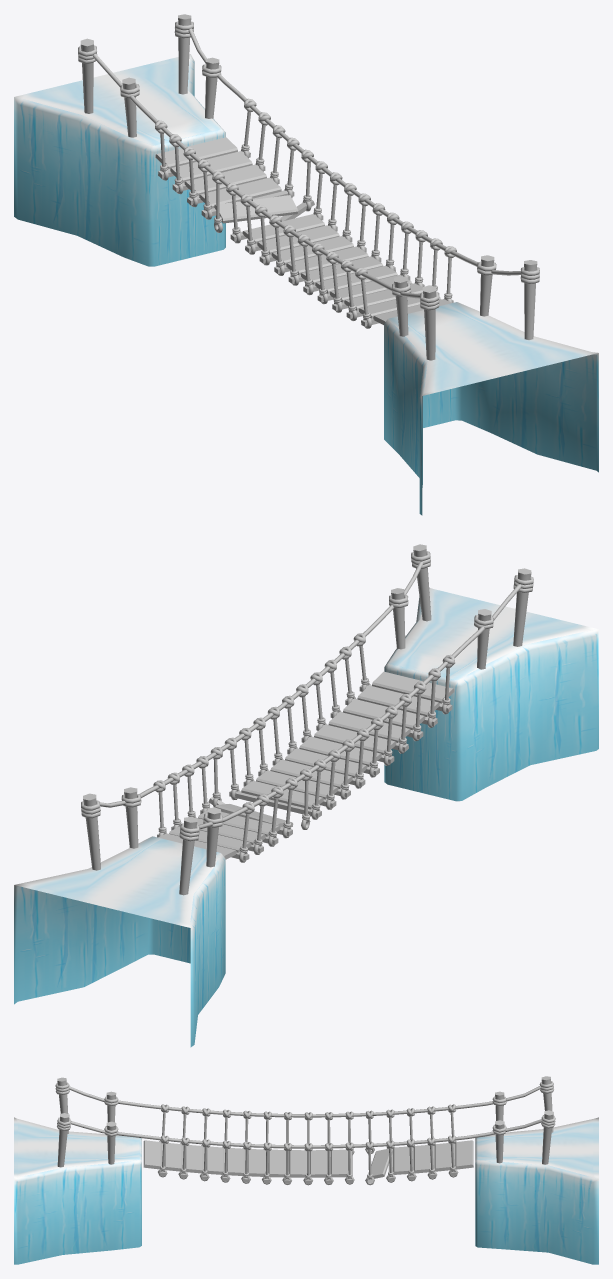
The model's file is Bridge_Broken.FBX.
The picture shows the model from 3 angles, top to bottom: view 1: azimuth 30°, elevation 25°; view 2: azimuth 150°, elevation 25°; view 3: azimuth 270°, elevation 25°; orthographic projection. The views are drawn at different scales.
Parts seen in each view (by area): view 1: Bridge003, Box204; view 2: Bridge003, Box204; view 3: Bridge003, Box204.
Boxes of the visible parts, left/top/right/bottom form: Bridge003: left=14, top=54, right=598, bottom=515; Box204: left=78, top=14, right=539, bottom=360; Bridge003: left=14, top=588, right=598, bottom=1047; Box204: left=81, top=544, right=533, bottom=895; Bridge003: left=14, top=1117, right=598, bottom=1264; Box204: left=55, top=1076, right=555, bottom=1185.
Bounding box in the file's own units: 601 × 626 × 2402.
